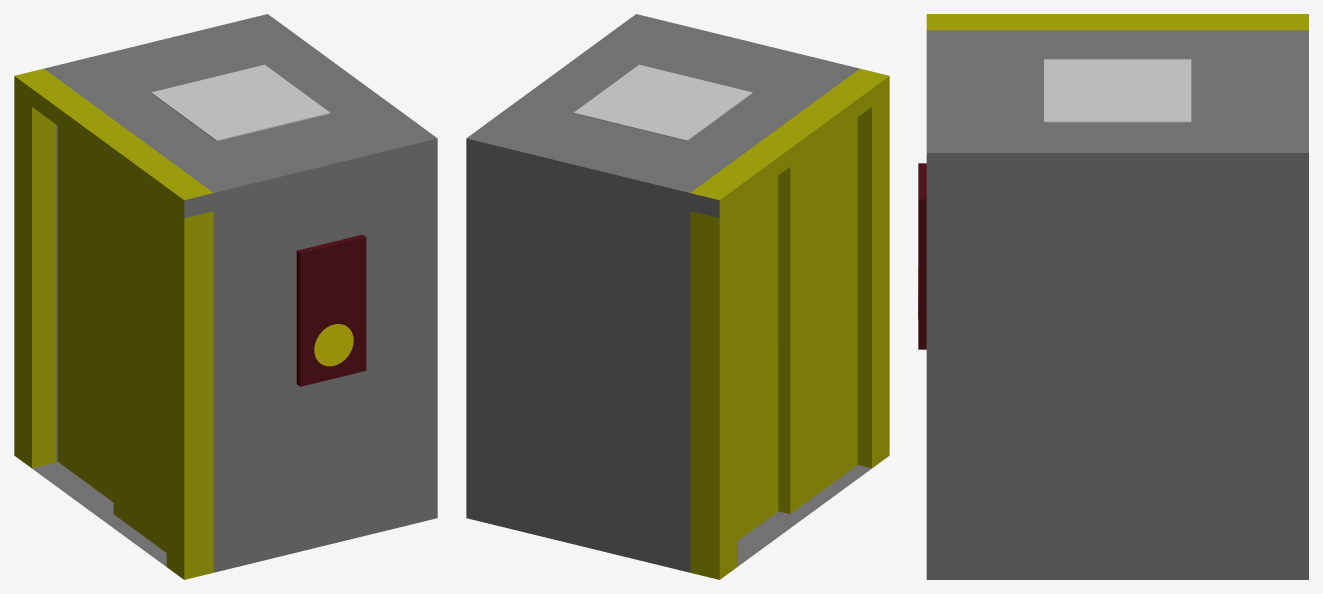
File: elevatorfix.fbx
3 renders of one model, left to right at view 1: azimuth 30°, elevation 25°; view 2: azimuth 150°, elevation 25°; view 3: azimuth 270°, elevation 25°, orthographic. The views are drawn at different scales.
Visible parts, largest first — view 1: ElevatorFrame, ElevatorDoor, ElevatorPanel, ElevatorLight, ElevatorButton; view 2: ElevatorFrame, ElevatorDoor, ElevatorLight; view 3: ElevatorFrame, ElevatorLight, ElevatorPanel.
Part boxes in pixels (box(x1,y1,x2,y2)): ElevatorFrame: box(14, 14, 437, 579); ElevatorDoor: box(58, 126, 166, 552); ElevatorPanel: box(296, 234, 366, 386); ElevatorLight: box(151, 64, 330, 141); ElevatorButton: box(314, 324, 353, 366); ElevatorFrame: box(466, 14, 889, 579); ElevatorDoor: box(737, 117, 857, 540); ElevatorLight: box(573, 64, 752, 141); ElevatorFrame: box(926, 14, 1308, 579); ElevatorLight: box(1044, 59, 1191, 122); ElevatorPanel: box(918, 163, 926, 349).
Bounding box in the file's own units: 140 × 203 × 166.
